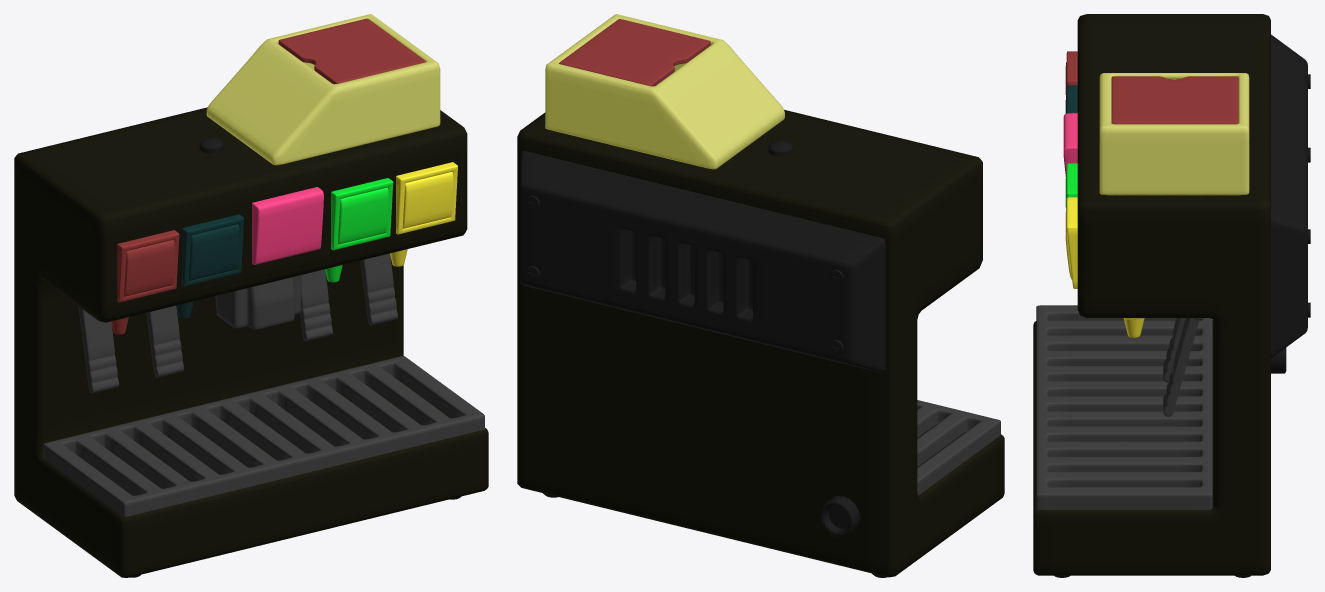
File: Soda Machine.fbx
3 renders of one model, left to right at view 1: azimuth 30°, elevation 25°; view 2: azimuth 150°, elevation 25°; view 3: azimuth 270°, elevation 25°, orthographic. The views are drawn at different scales.
Visible parts, largest first — view 1: body, grate, ice_bin, top_cover, ice_label, ice_despencer, lever, lcd_3, lcd, lcd_4, lcd_2, lever_2 (+6 smaller); view 2: body, vent, ice_bin, top_cover, grate, plug; view 3: body, grate, ice_bin, vent, top_cover, lever_4, soda_4_label, ice_label, lever_3, soda_3_label, soda_1_label.
Part boxes in pixels (x1,y1,x2,y2): body: (14,107,488,577); grate: (43,356,484,517); ice_bin: (206,14,440,165); top_cover: (278,18,425,84); ice_label: (252,187,323,264); ice_despencer: (215,275,301,329); lever: (78,306,119,393); lcd_3: (338,187,388,244); lcd: (124,240,174,296); lcd_4: (402,172,453,228); lcd_2: (189,224,239,280); lever_2: (146,305,184,377); body: (517,109,1004,577); vent: (520,151,885,372); ice_bin: (545,14,784,169); top_cover: (559,19,710,86); grate: (917,400,1000,495); plug: (820,496,860,536); body: (1033,14,1270,575); grate: (1036,305,1212,509); ice_bin: (1099,73,1249,195); vent: (1271,34,1307,358); top_cover: (1111,76,1238,124); lever_4: (1163,318,1199,416); soda_4_label: (1066,197,1077,288); ice_label: (1063,113,1077,176); lever_3: (1163,318,1185,382); soda_3_label: (1066,163,1077,197); soda_1_label: (1066,51,1077,85).
Bounding box in the file's own units: 4.59 × 5.02 × 2.79.
